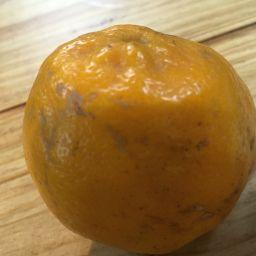Unripe: (20, 27, 255, 256)
